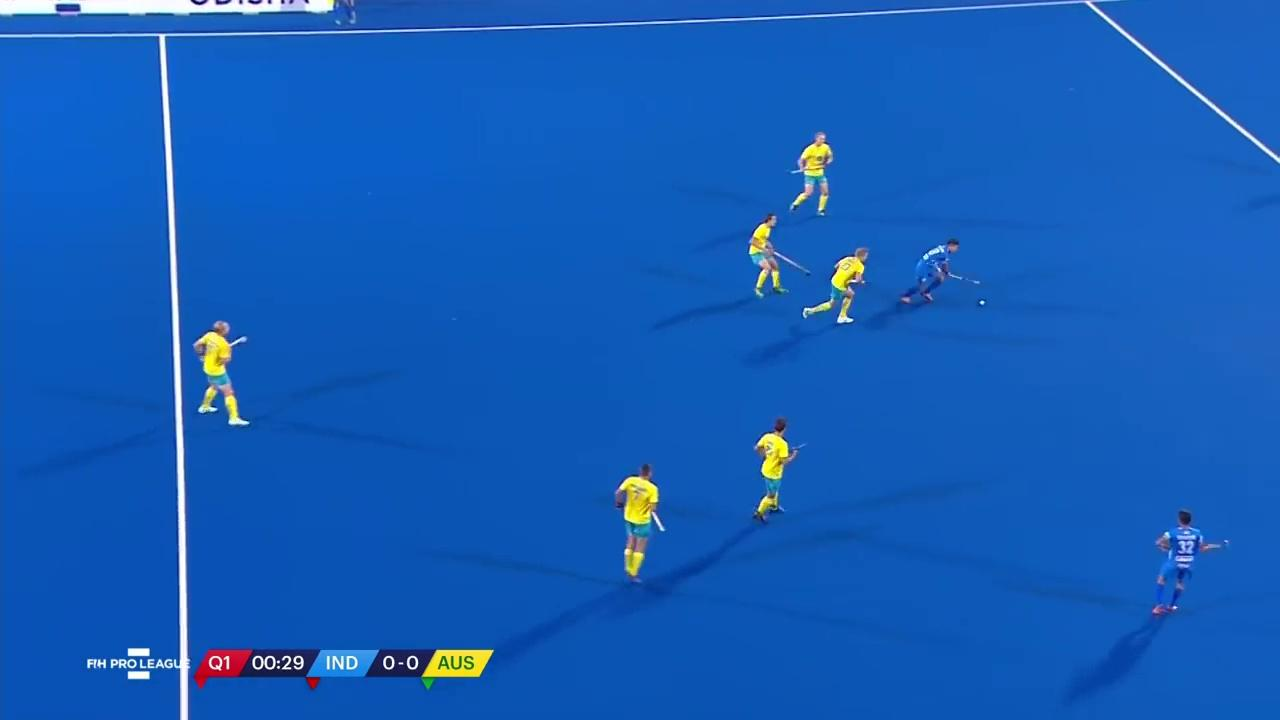ball: (975, 292, 990, 309)
